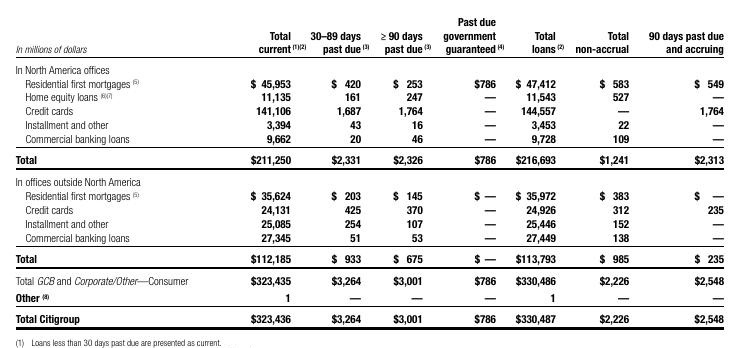table: (0, 0, 744, 348)
